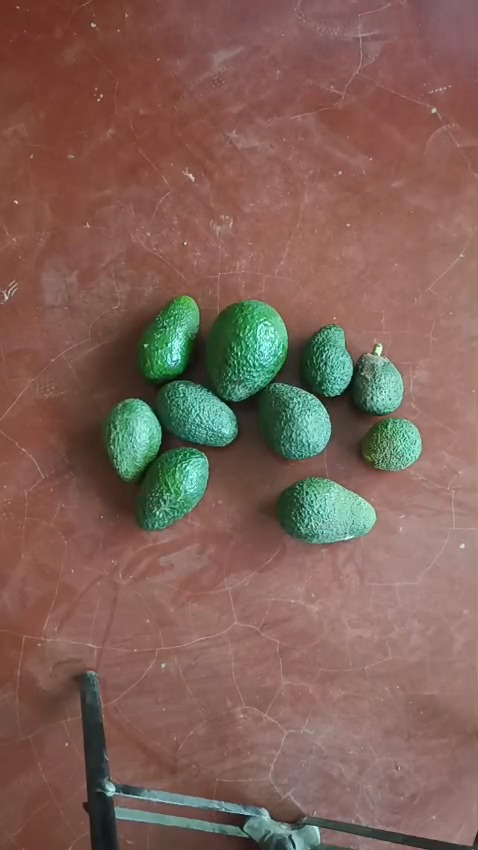Primera: (205, 300, 288, 401)
Segunda: (276, 476, 375, 542), (136, 446, 210, 530), (135, 295, 201, 384), (154, 380, 239, 448), (258, 382, 332, 460), (101, 397, 161, 482)
Tercera: (350, 342, 405, 415), (299, 324, 353, 398), (360, 416, 422, 470)
